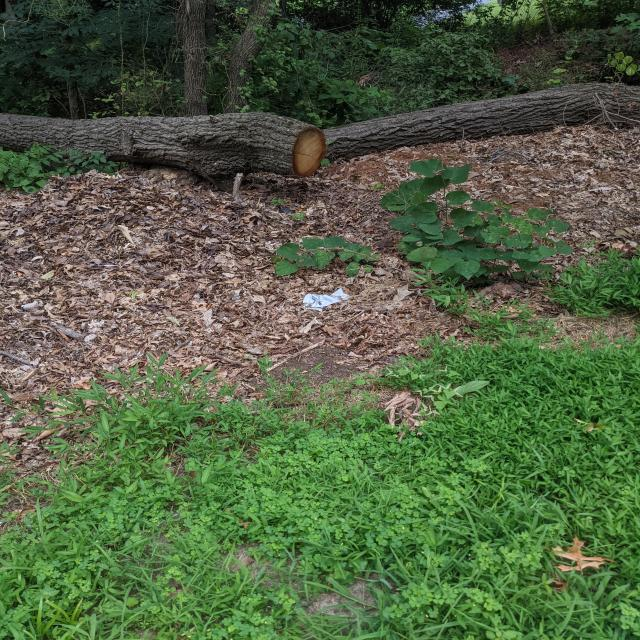litter: (301, 289, 351, 308)
